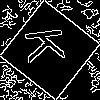K: (25, 25, 74, 64)
